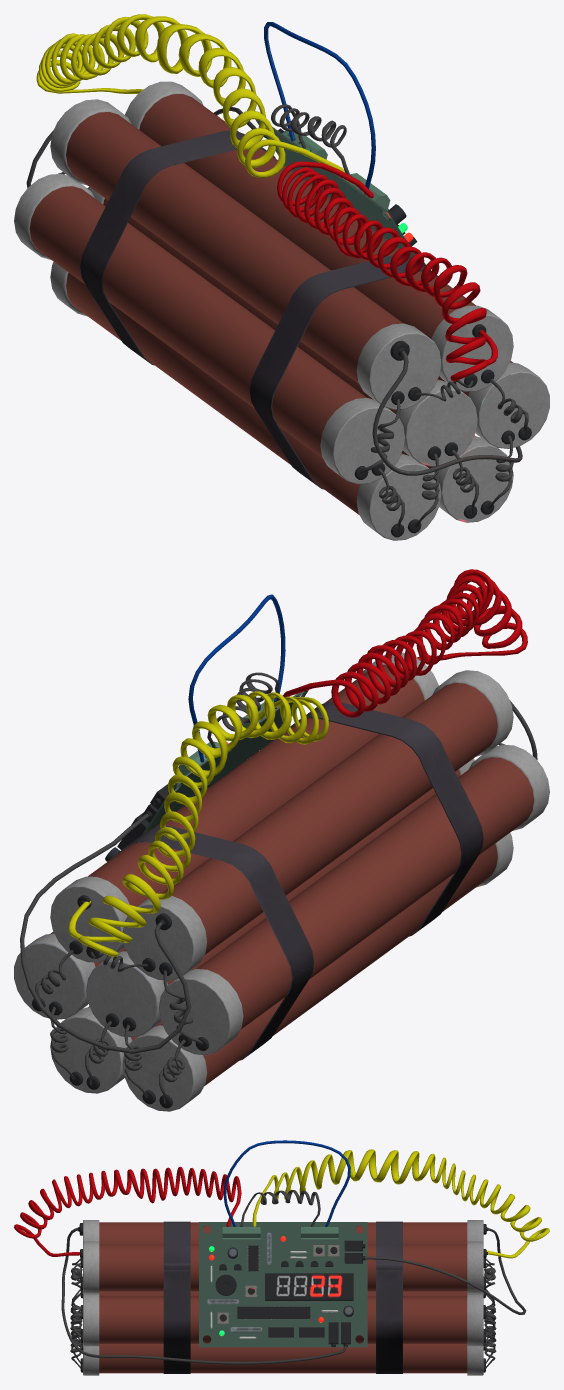
Rendered from bomb.glb.
3 renders of one model, top to bottom at view 1: azimuth 30°, elevation 25°; view 2: azimuth 150°, elevation 25°; view 3: azimuth 270°, elevation 25°, orthographic. The views are drawn at different scales.
Parts seen in each view (by area): view 1: polySurface80; view 2: polySurface80; view 3: polySurface80.
Part boxes in pixels (<box>): polySurface80: <box>14,14,549,540</box>; polySurface80: <box>14,569,549,1111</box>; polySurface80: <box>14,1140,549,1375</box>.
Size of the model in its own units: 0.1553 by 0.2226 by 0.4694.
1 material, 1 textured.
